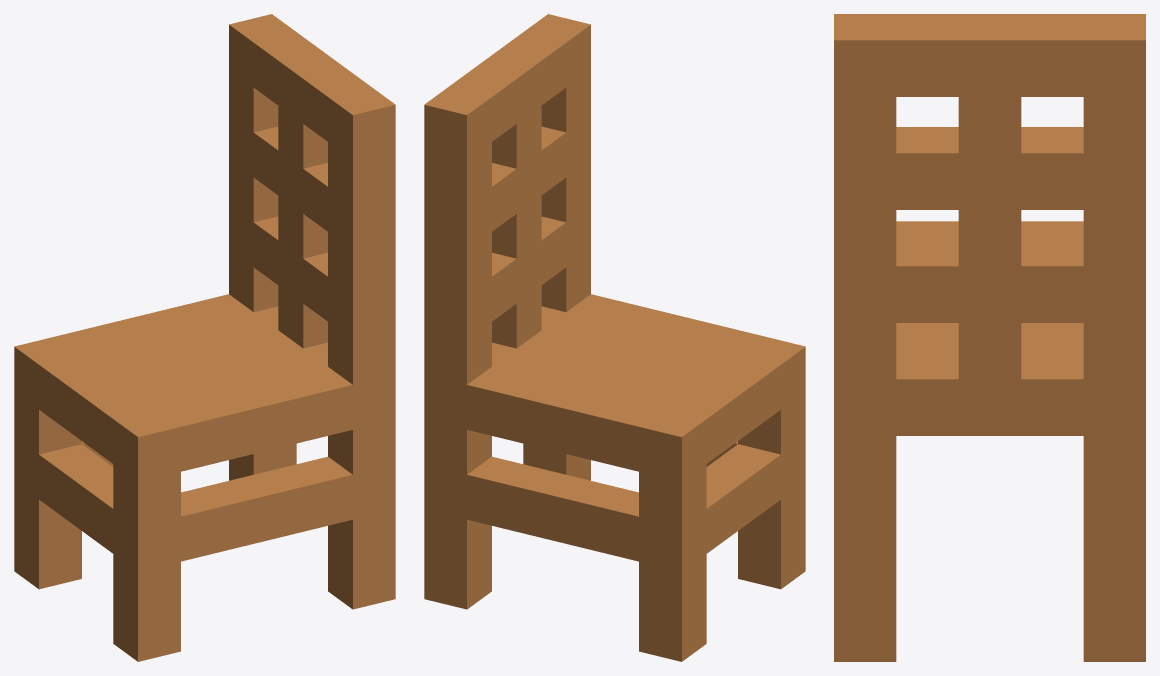
Rendered from Chair2.obj.
3 views of the same model, side by side, from view 1: azimuth 30°, elevation 25°; view 2: azimuth 150°, elevation 25°; view 3: azimuth 270°, elevation 25° (orthographic). The views are drawn at different scales.
Size of the model in its own units: 0.6 by 1.1 by 0.5.
1 material, 1 textured.
